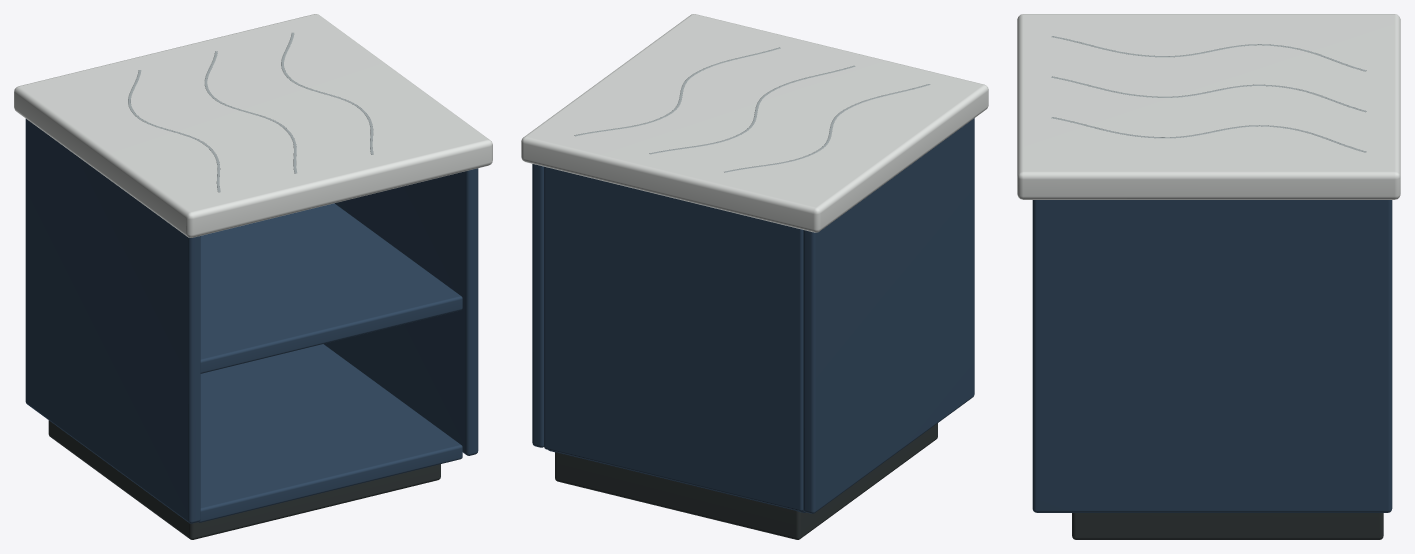
Rendered from kitchenModernFloorShelfNavy.glb.
3 renders of one model, left to right at view 1: azimuth 30°, elevation 25°; view 2: azimuth 150°, elevation 25°; view 3: azimuth 270°, elevation 25°, orthographic. The views are drawn at different scales.
Parts seen in each view (by area): view 1: Thick stone worktop, Open shelf side, Shelf, Shelf.001, Open shelf side.001, Recessed kitchen plinth; view 2: Open shelf back, Thick stone worktop, Open shelf side, Recessed kitchen plinth, Open shelf side.001; view 3: Open shelf side.001, Thick stone worktop, Recessed kitchen plinth, Fine stone vein, Fine stone vein.002, Fine stone vein.001.
Boxes of the visible parts, x1,y1,x2,y2 form: Thick stone worktop: (14, 14, 492, 237); Open shelf side: (25, 119, 200, 523); Shelf: (198, 344, 462, 522); Shelf.001: (200, 203, 462, 373); Open shelf side.001: (324, 168, 478, 455); Recessed kitchen plinth: (48, 420, 440, 539); Open shelf back: (544, 166, 803, 511); Thick stone worktop: (521, 14, 988, 232); Open shelf side: (803, 118, 974, 513); Recessed kitchen plinth: (555, 423, 937, 539); Open shelf side.001: (532, 164, 543, 447); Open shelf side.001: (1032, 200, 1392, 512); Thick stone worktop: (1017, 14, 1400, 199); Recessed kitchen plinth: (1072, 513, 1383, 539); Fine stone vein: (1051, 36, 1366, 71); Fine stone vein.002: (1051, 117, 1366, 152); Fine stone vein.001: (1051, 76, 1366, 112).
Bounding box in the file's own units: 1.12 × 1.23 × 1.12.
